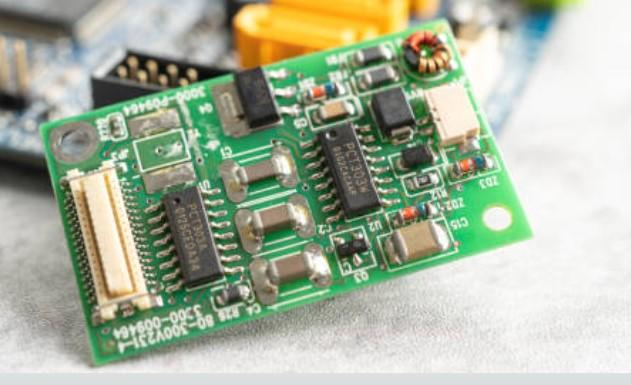Printed Circuit Board PCB: (39, 20, 533, 364)
